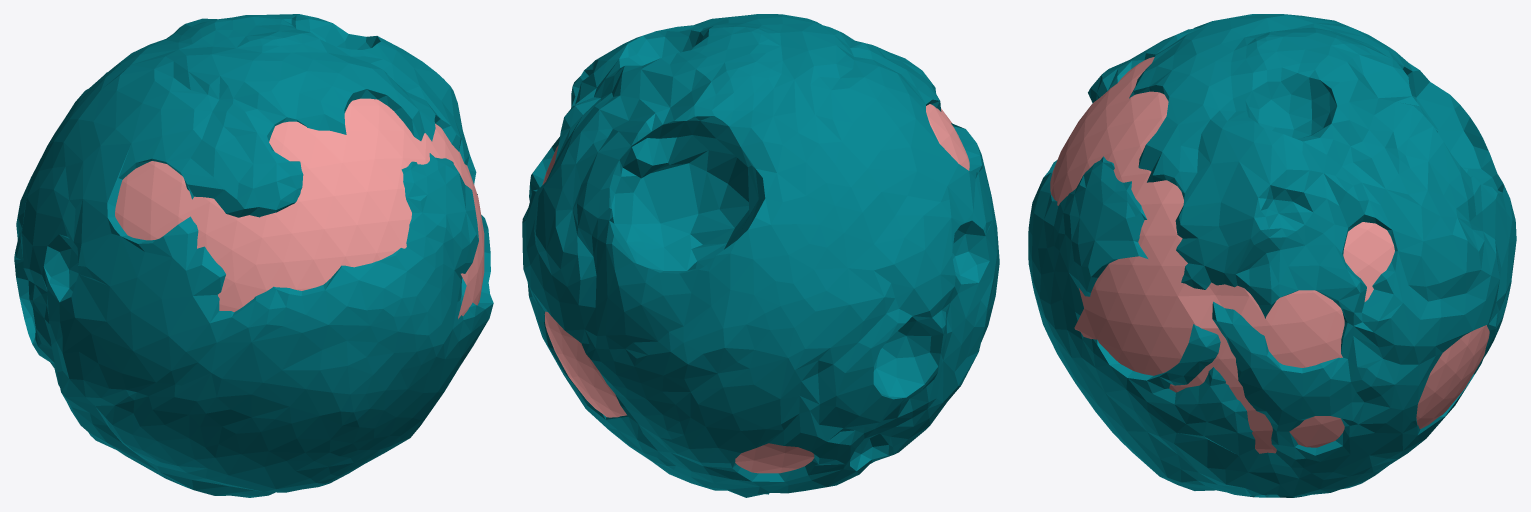
Rendered from Planet_41.glb.
3 views of the same model, side by side, from view 1: azimuth 30°, elevation 25°; view 2: azimuth 150°, elevation 25°; view 3: azimuth 270°, elevation 25° (orthographic). The views are drawn at different scales.
Visible parts, largest first — view 1: Planet_41; view 2: Planet_41; view 3: Planet_41.
Boxes of the visible parts, x1,y1,x2,y2 form: Planet_41: (14, 14, 493, 497); Planet_41: (522, 14, 999, 497); Planet_41: (1028, 14, 1516, 497).
Size of the model in its own units: 20.03 by 20.57 by 20.07.
Materials: 1 (1 with a texture image).
